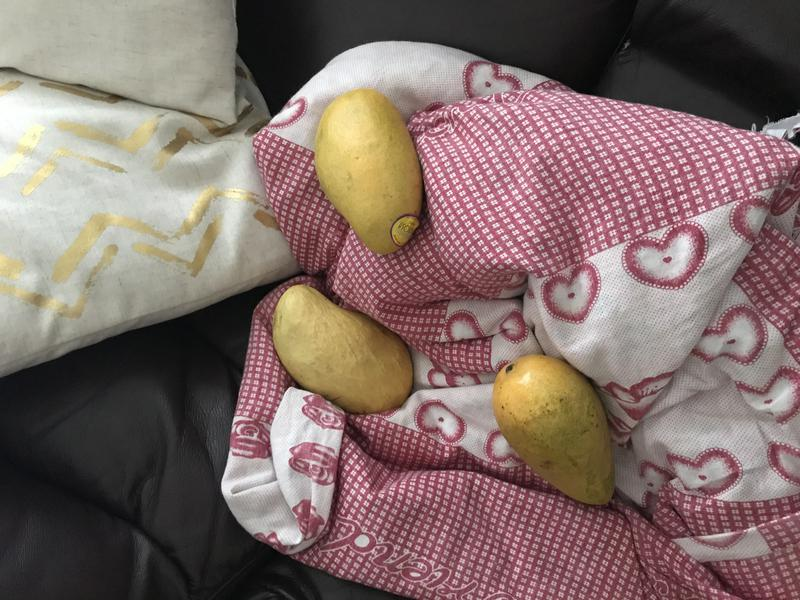w: (263, 275, 436, 423), (483, 345, 626, 524), (307, 81, 429, 262)
